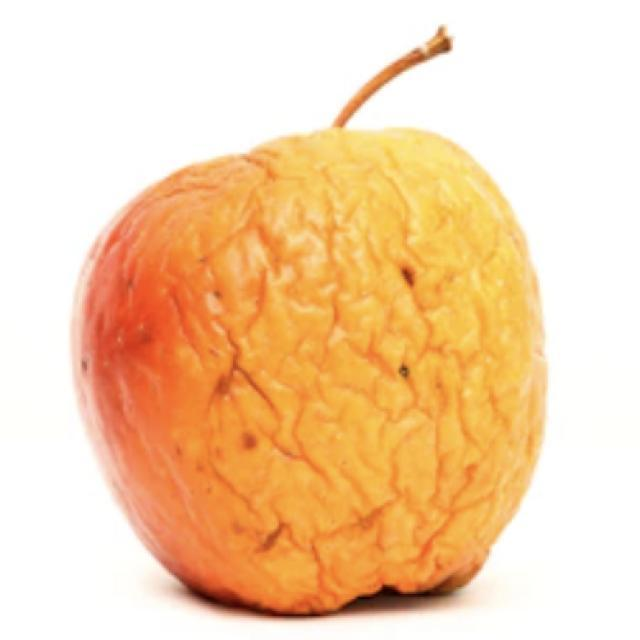Rotten: (69, 120, 548, 613)
